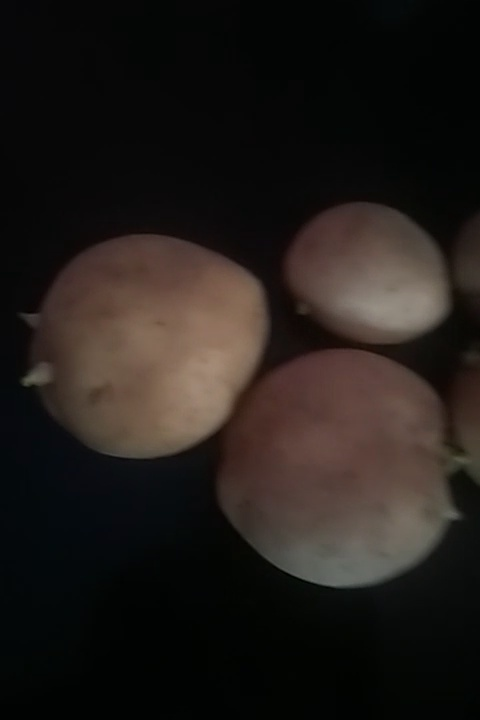potato: (226, 338, 461, 609), (35, 243, 270, 471), (275, 214, 463, 345)
